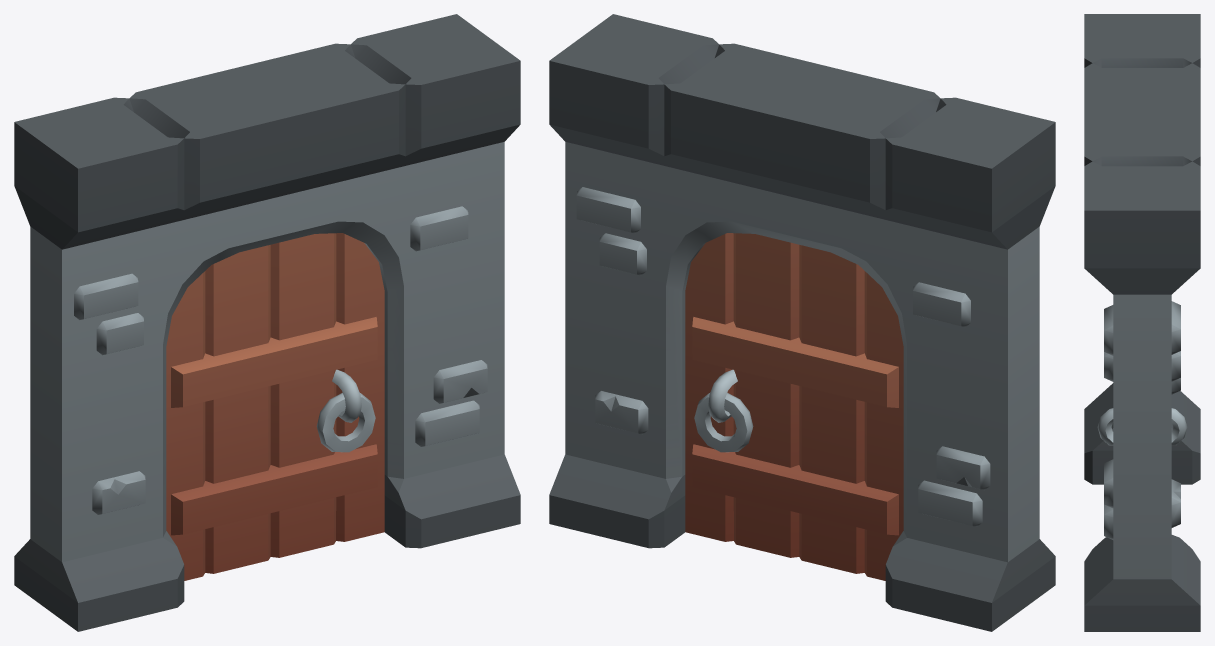
File: wall_doorway.glb
The picture shows the model from 3 angles, left to right: view 1: azimuth 30°, elevation 25°; view 2: azimuth 150°, elevation 25°; view 3: azimuth 270°, elevation 25°; orthographic projection. The views are drawn at different scales.
Visible parts, largest first — view 1: wall_doorway, wall_doorway_door; view 2: wall_doorway, wall_doorway_door; view 3: wall_doorway, wall_doorway_door.
Boxes of the visible parts, x1,y1,x2,y2 form: wall_doorway: (14,14,520,631); wall_doorway_door: (166,233,384,580); wall_doorway: (549,14,1055,631); wall_doorway_door: (685,233,903,580); wall_doorway: (1084,14,1200,631); wall_doorway_door: (1097,408,1187,445).
Bounding box in the file's own units: 4 × 4 × 1.
Materials: 1 (1 with a texture image).
